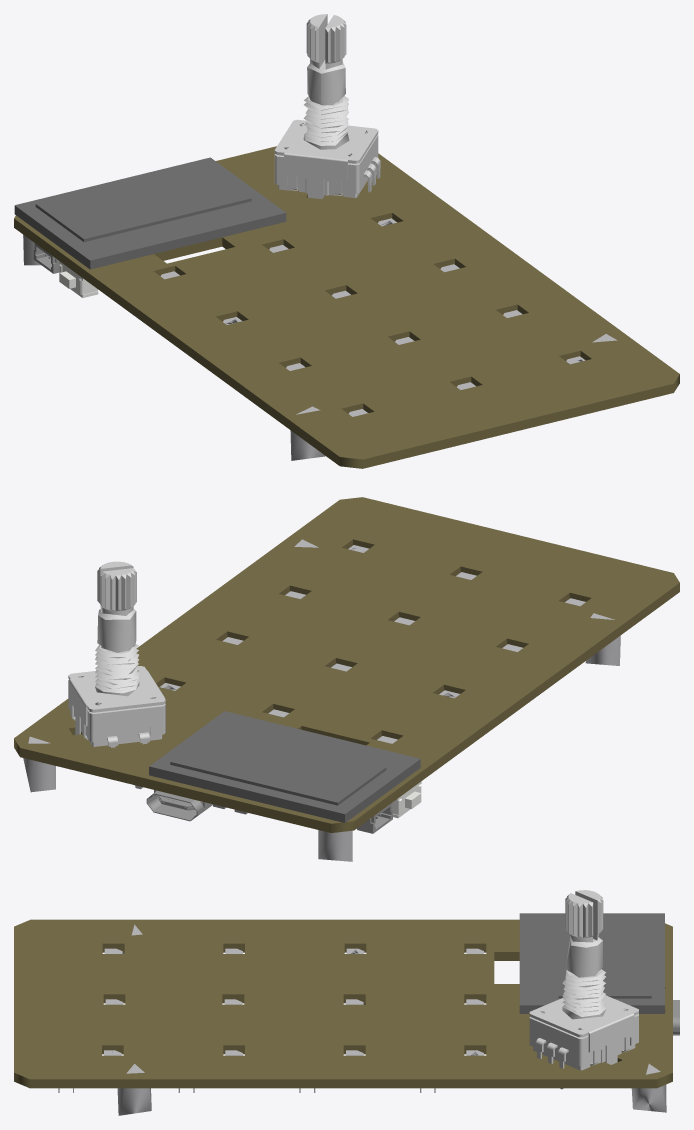
The model's file is ada-5100.glb.
The picture shows the model from 3 angles, top to bottom: view 1: azimuth 30°, elevation 25°; view 2: azimuth 150°, elevation 25°; view 3: azimuth 270°, elevation 25°; orthographic projection. The views are drawn at different scales.
Visible parts, largest first — view 1: 0.16666666666666666_0.16666666666666666_0.08333333333333333_, 0.16666666666666666_0.16666666666666666_0.16666666666666666_, 0.75_0.75_0.75_0.85, 0.5833333333333334_0.5833333333333334_0.5833333333333334_0.8, 0.9166666666666666_0.9166666666666666_0.9166666666666666_0.8; view 2: 0.16666666666666666_0.16666666666666666_0.08333333333333333_, 0.16666666666666666_0.16666666666666666_0.16666666666666666_, 0.75_0.75_0.75_0.85, 0.5833333333333334_0.5833333333333334_0.5833333333333334_0.8, 0.3333333333333333_0.3333333333333333_0.3333333333333333_0, 0.9166666666666666_0.9166666666666666_0.9166666666666666_0.8; view 3: 0.16666666666666666_0.16666666666666666_0.08333333333333333_, 0.75_0.75_0.75_0.85, 0.16666666666666666_0.16666666666666666_0.16666666666666666_, 0.5833333333333334_0.5833333333333334_0.5833333333333334_0.8.
Boxes of the visible parts, x1,y1,x2,y2 form: 0.16666666666666666_0.16666666666666666_0.08333333333333333_: (14,146,679,468); 0.16666666666666666_0.16666666666666666_0.16666666666666666_: (14,157,286,269); 0.75_0.75_0.75_0.85: (274,14,380,199); 0.5833333333333334_0.5833333333333334_0.5833333333333334_0.8: (23,218,617,460); 0.9166666666666666_0.9166666666666666_0.9166666666666666_0.8: (59,261,98,297); 0.16666666666666666_0.16666666666666666_0.08333333333333333_: (14,497,679,832); 0.16666666666666666_0.16666666666666666_0.16666666666666666_: (149,711,420,822); 0.75_0.75_0.75_0.85: (68,561,165,747); 0.5833333333333334_0.5833333333333334_0.5833333333333334_0.8: (23,539,620,861); 0.3333333333333333_0.3333333333333333_0.3333333333333333_0: (146,790,392,833); 0.9166666666666666_0.9166666666666666_0.9166666666666666_0.8: (392,781,421,818); 0.16666666666666666_0.16666666666666666_0.08333333333333333_: (14,919,672,1088); 0.75_0.75_0.75_0.85: (529,890,638,1089); 0.16666666666666666_0.16666666666666666_0.16666666666666666_: (519,913,664,1013); 0.5833333333333334_0.5833333333333334_0.5833333333333334_0.8: (58,924,666,1115).
Size of the model in its own units: 6.08 by 3.41 by 10.52.
